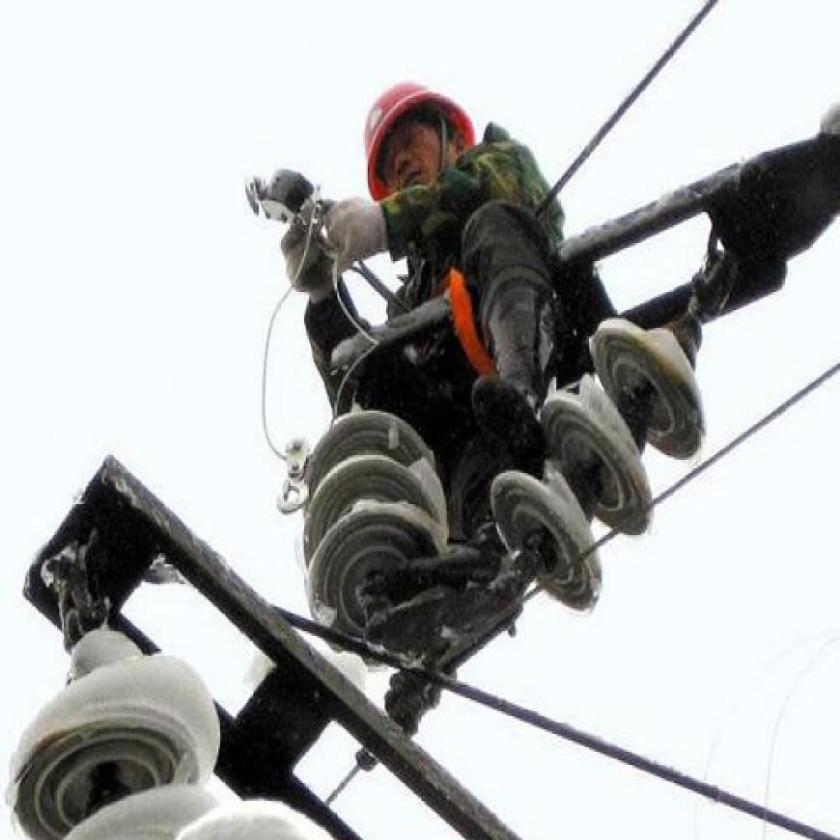Con_casco: (360, 73, 478, 212)
